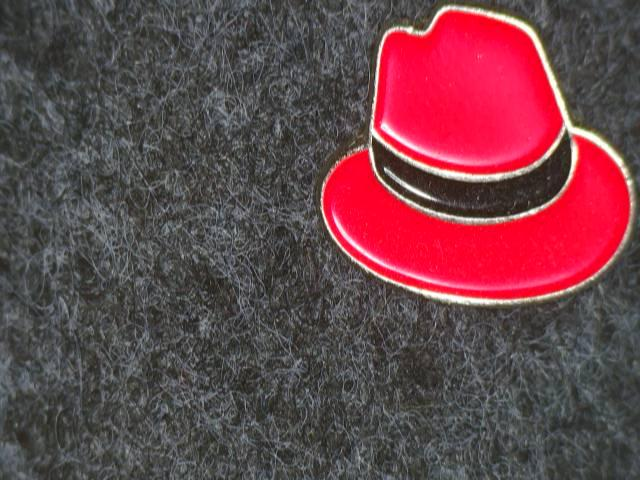Red-Hat: (311, 0, 640, 343)
